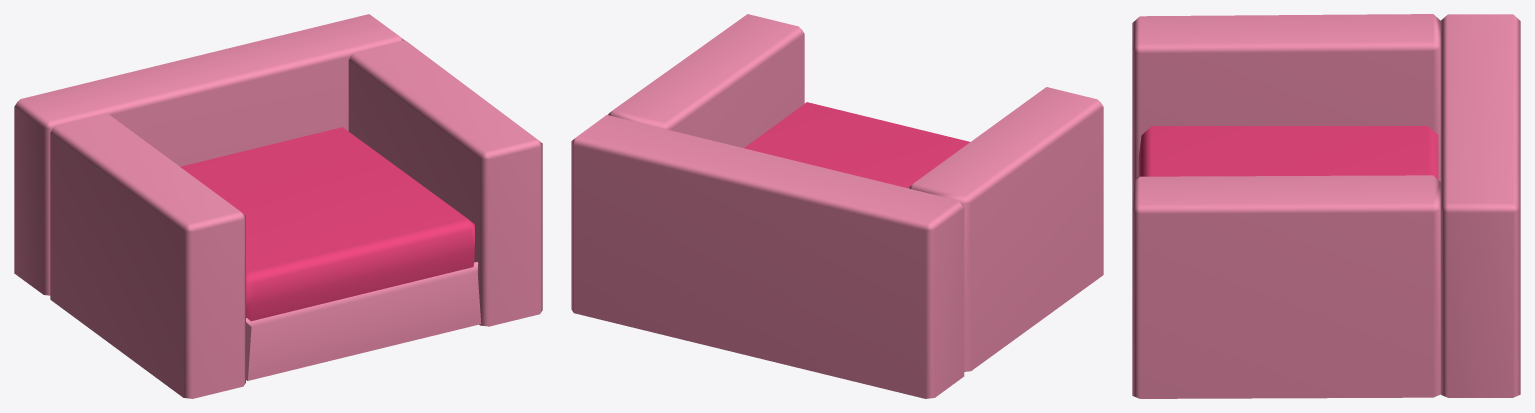
Rendered from armchair_015.fbx.
3 renders of one model, left to right at view 1: azimuth 30°, elevation 25°; view 2: azimuth 150°, elevation 25°; view 3: azimuth 270°, elevation 25°, orthographic. The views are drawn at different scales.
Visible parts, largest first — view 1: armchair_015; view 2: armchair_015; view 3: armchair_015.
Part boxes in pixels (box(x1,y1,x2,y2)): armchair_015: box(14, 14, 542, 398); armchair_015: box(571, 14, 1103, 398); armchair_015: box(1132, 14, 1520, 398).
Bounding box in the file's own units: 126 × 106 × 58.41.
